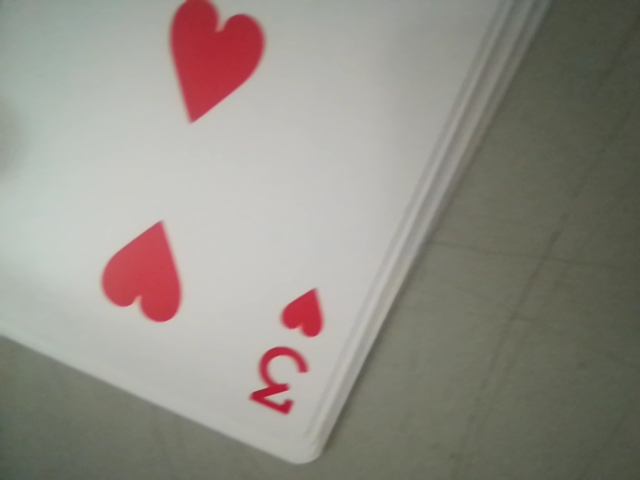hx 3: (244, 288, 335, 424)
